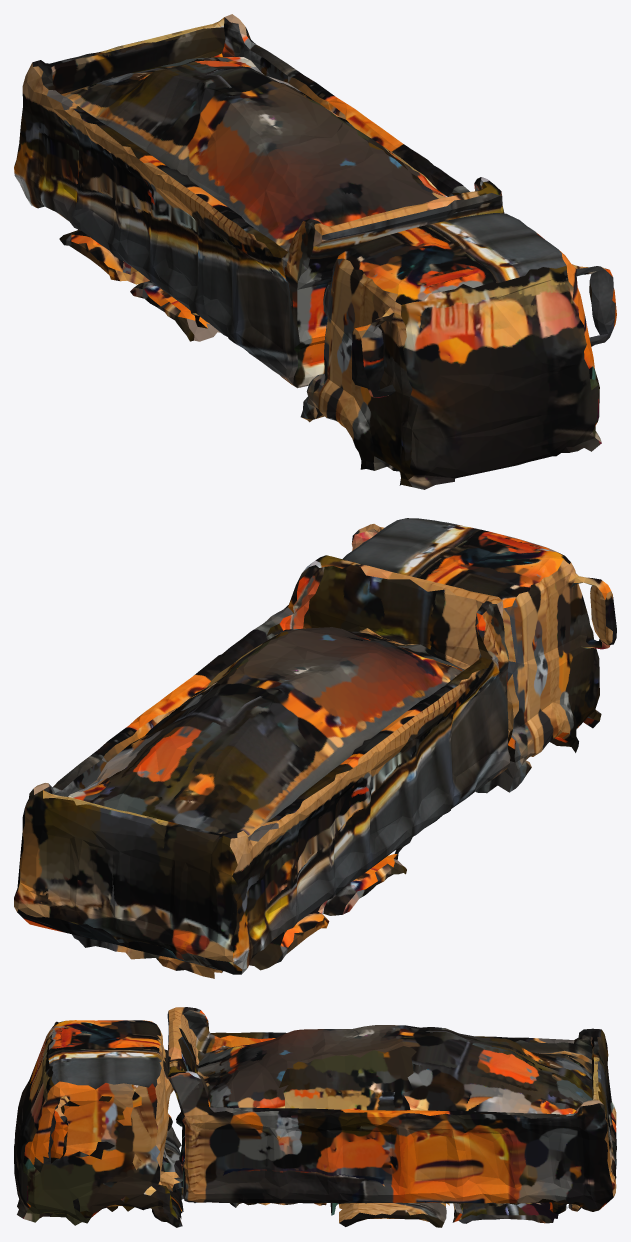
The model's file is cacamba-ia.glb.
The picture shows the model from 3 angles, top to bottom: view 1: azimuth 30°, elevation 25°; view 2: azimuth 150°, elevation 25°; view 3: azimuth 270°, elevation 25°; orthographic projection. The views are drawn at different scales.
Visible parts, largest first — view 1: geometry_0; view 2: geometry_0; view 3: geometry_0.
Part boxes in pixels (box(x1,y1,x2,y2)): geometry_0: box(14, 14, 616, 489); geometry_0: box(14, 518, 616, 978); geometry_0: box(14, 1007, 616, 1227).
Size of the model in its own units: 0.7576 by 0.5669 by 1.98.
Materials: 1 (1 with a texture image).
